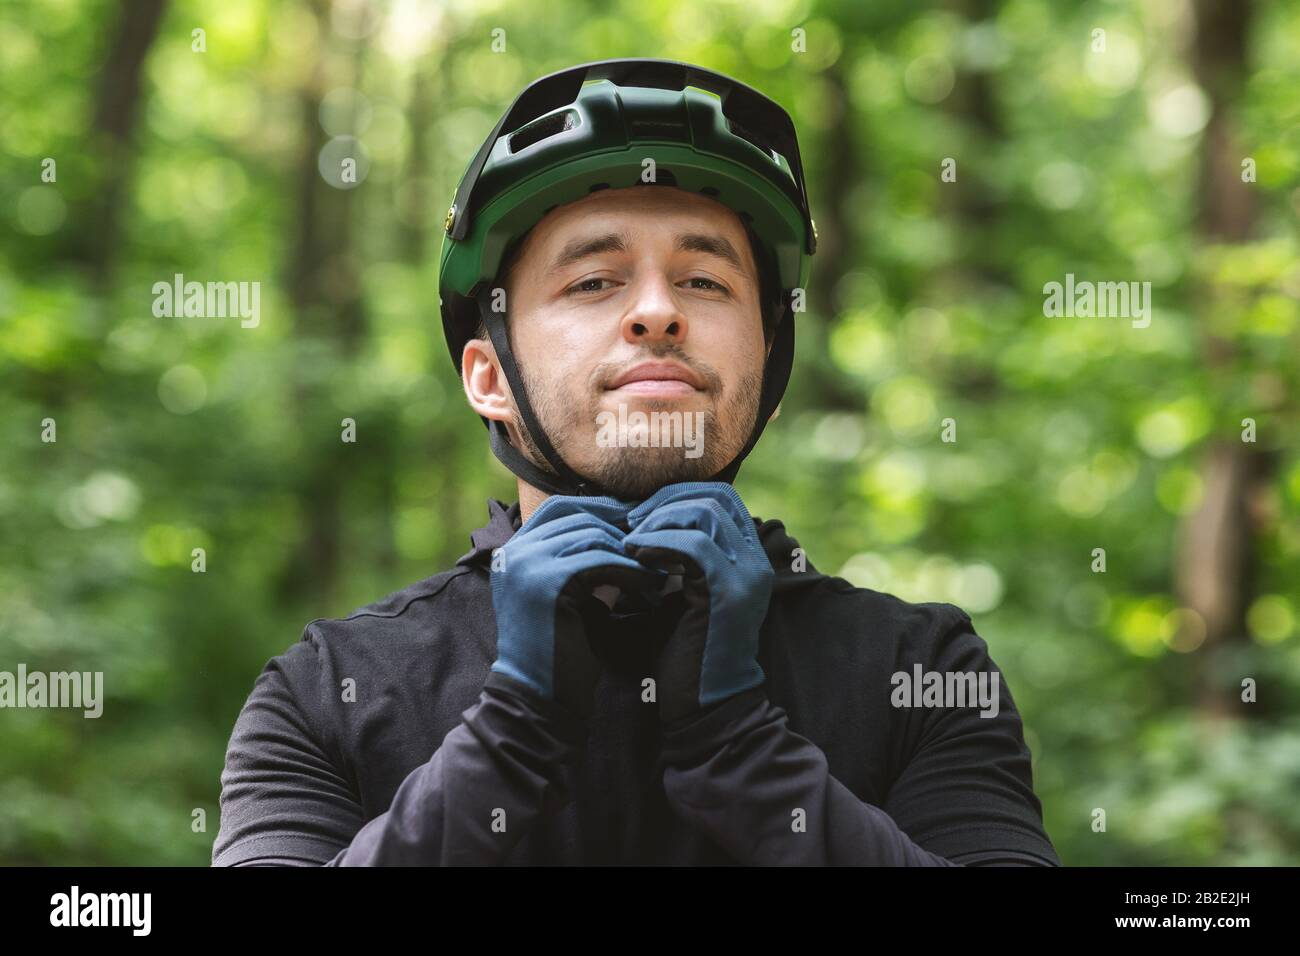helmet: (437, 60, 817, 513)
